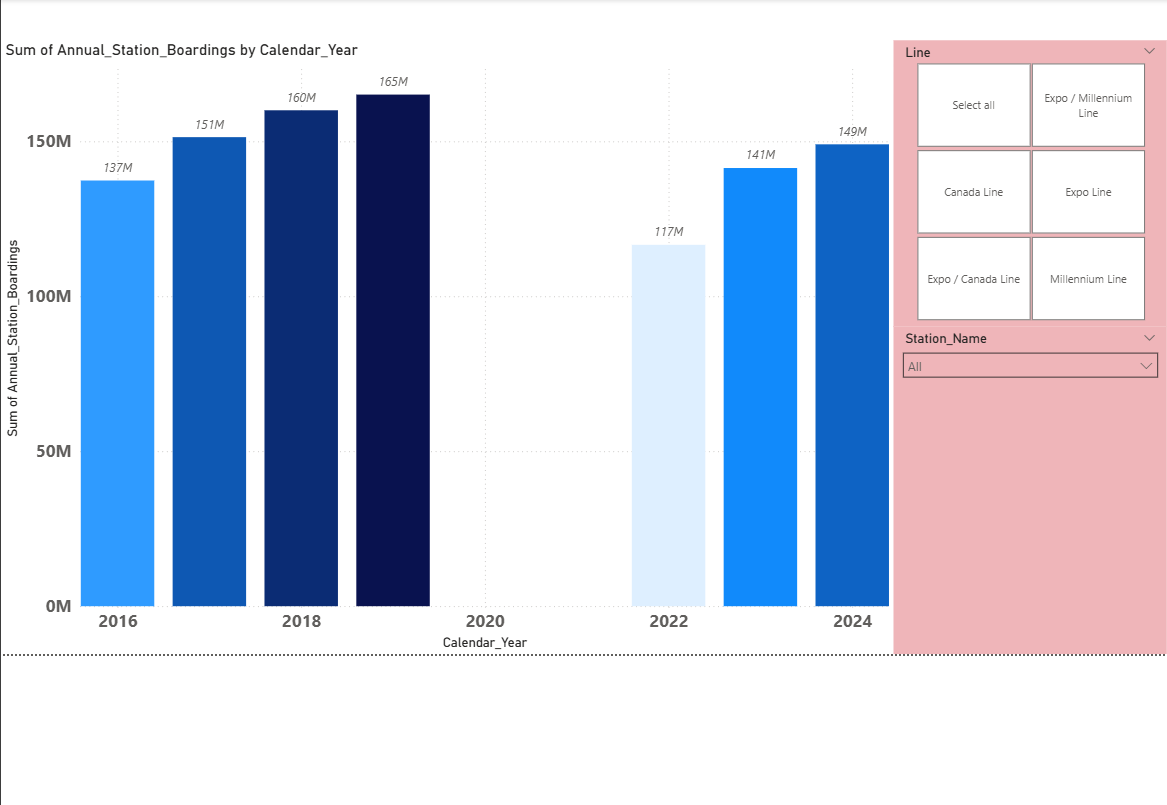

Layout of this report page (visuals, bound fields, positions):
{"tool":"powerbi","page":{"name":"Station Boarding History","canvas":[1280,720],"ordinal":0},"visuals":[{"type":"clusteredColumnChart","fields":{"Category":["Sheet1.Calendar_Year"],"Y":["Sum(Sheet1.Annual_Station_Boardings)"]},"box":[0,45.7,980,674.3],"z":0},{"type":"slicer","fields":{"Values":["Sheet1.Station_Name"]},"box":[980,360,300,360],"z":1000},{"type":"slicer","fields":{"Values":["Sheet1.Line"]},"box":[980,45.7,300,314.3],"z":2000}]}

Visuals, with their boxes on the page's 1280x720 design canvas (x1, y1, x2, y2). These are canvas units, not pixel positions in the 1167x805 screenshot, which may show the page scaled, cropped or inside an application window:
clusteredColumnChart - Sheet1.Calendar_Year x Sum(Sheet1.Annual_Station_Boardings): 0, 46, 980, 720
slicer - Sheet1.Station_Name: 980, 360, 1280, 720
slicer - Sheet1.Line: 980, 46, 1280, 360
